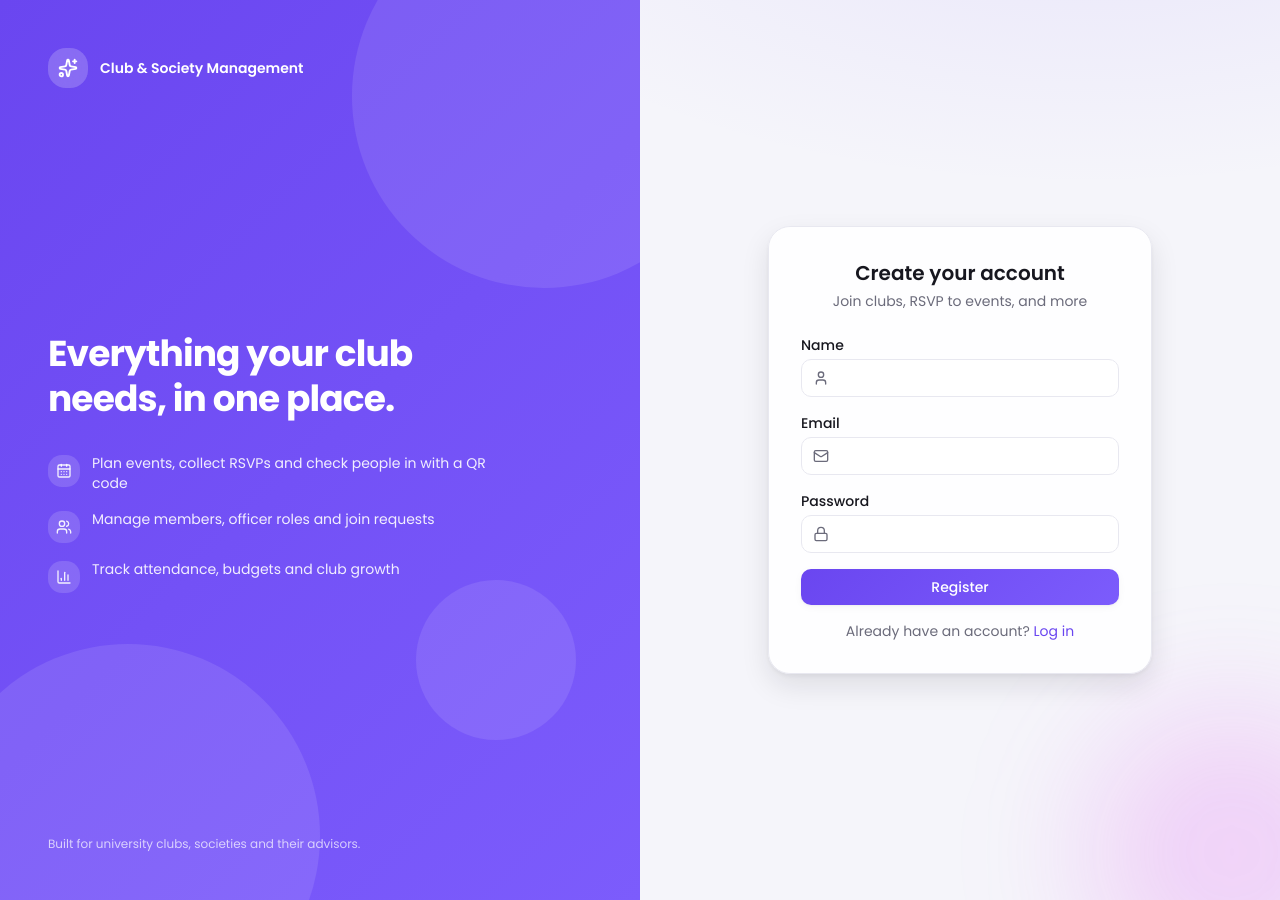
Test: RegisterPage › shows an inline error for a short password after blur
The image size is (1280, 900).
Type "short" into the password field labelled "Password".
click(960, 534); type("short")  # box x1=801 y1=515 x2=1119 y2=553
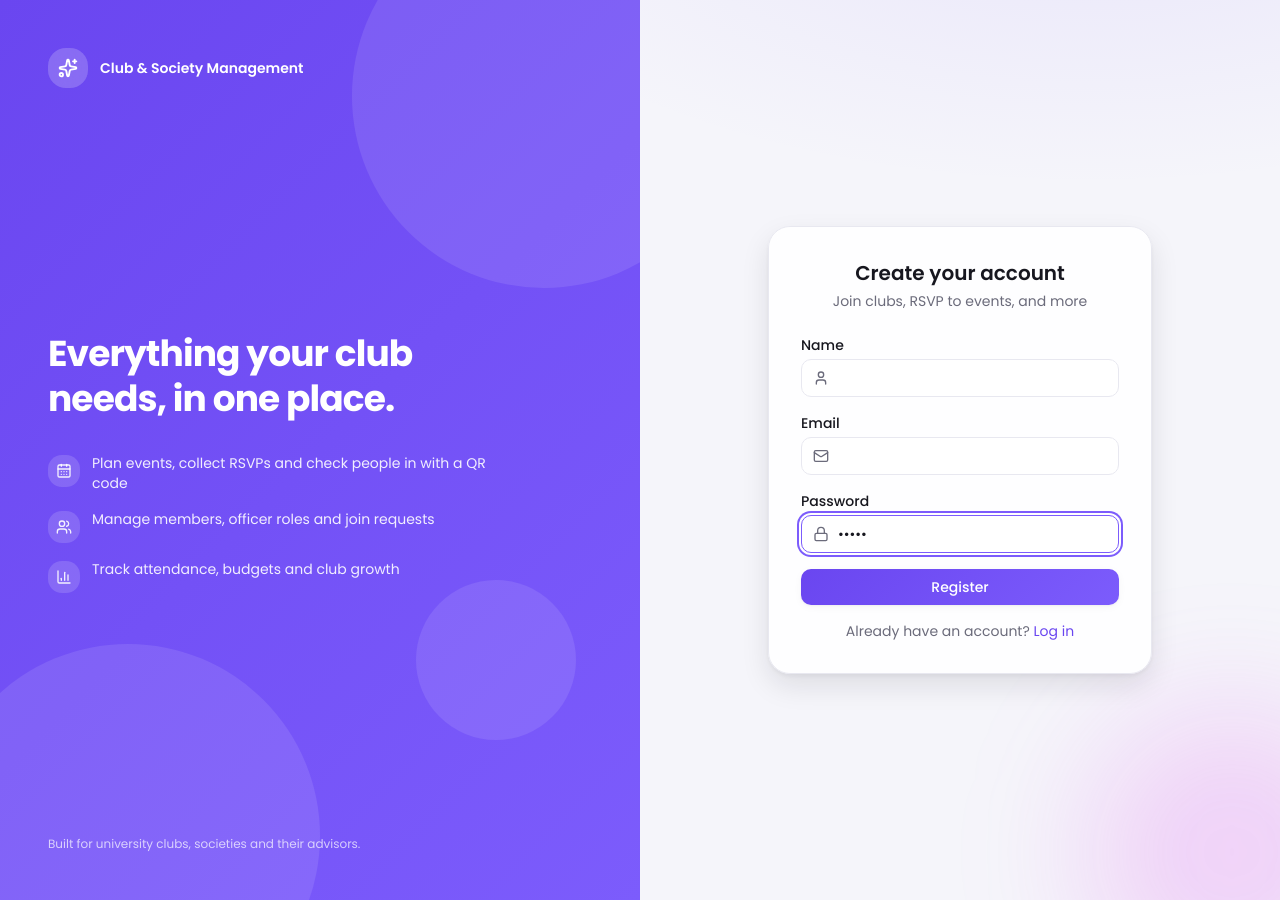
Press Tab
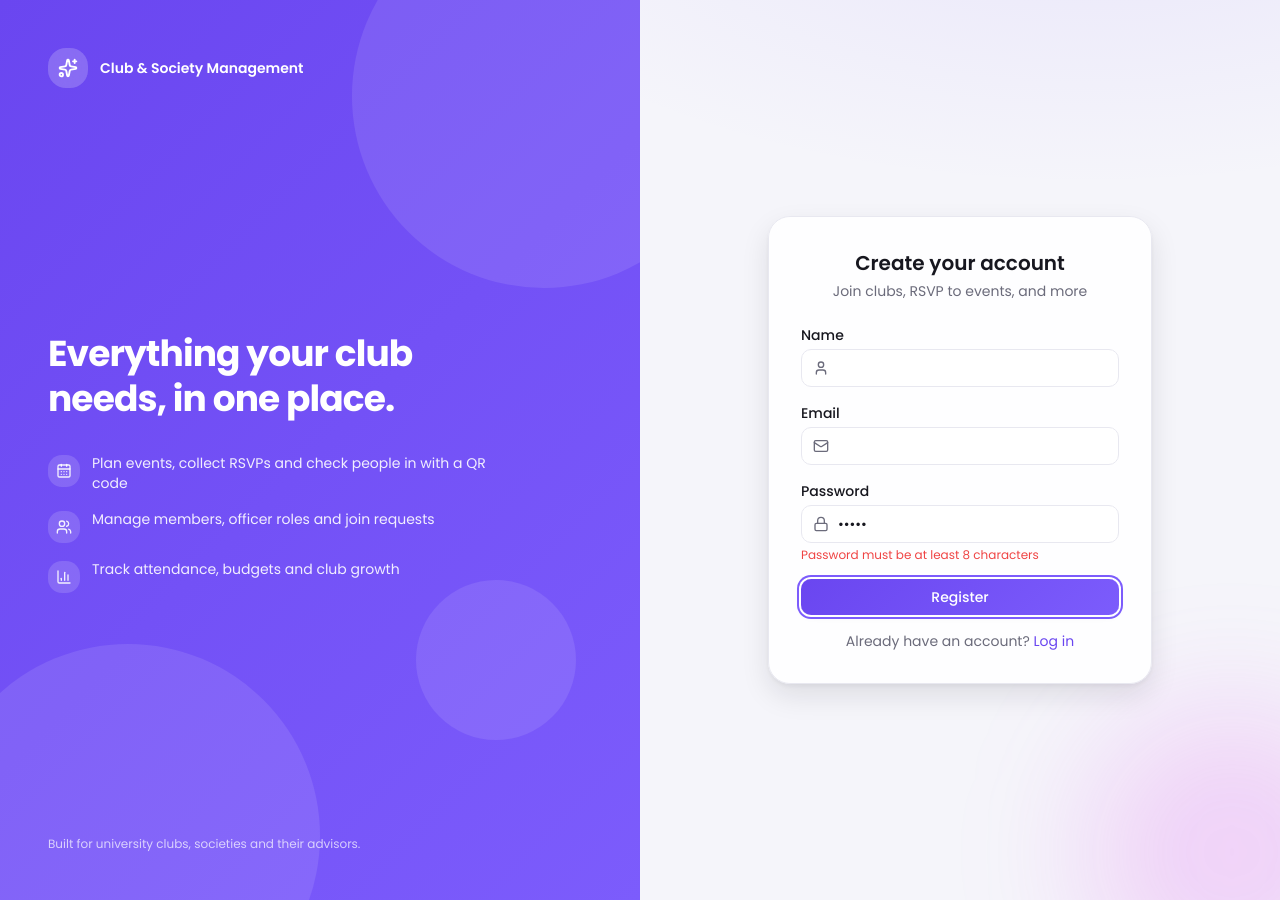
Result: the text "Password must be at least 8 characters" is shown at x1=801 y1=546 x2=1039 y2=563
